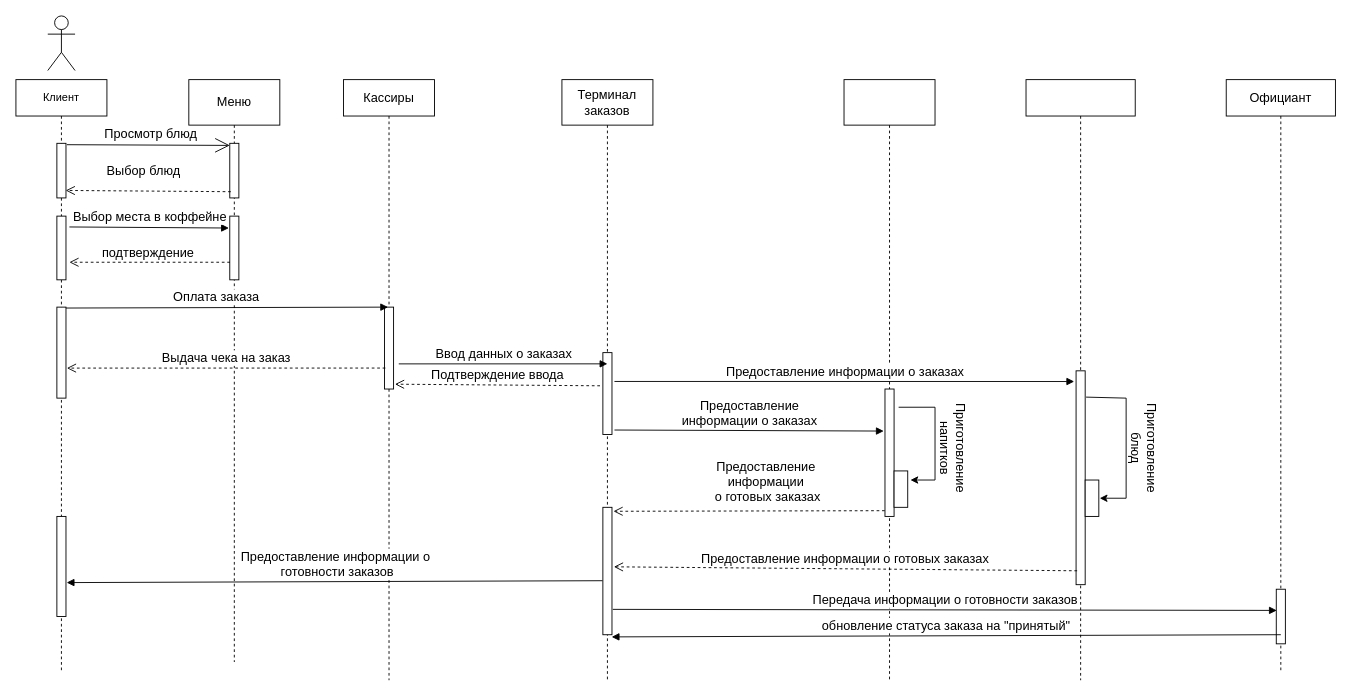
Image size: 1351x696. Some labels were removed from this diagram. The shapes that lost their labels are listed below. From the top down, each one's box as (x1, y1, x2, y2) in pixels, then its label:
(843, 79, 935, 680): Бариста
(1025, 79, 1135, 680): Повар
